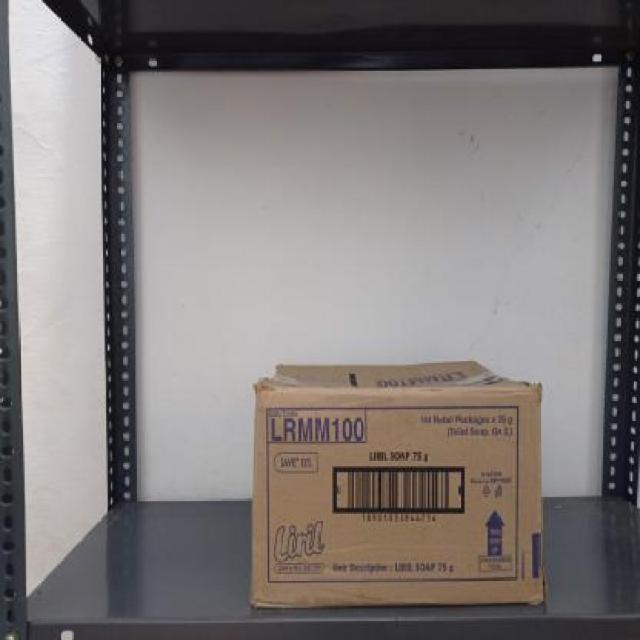box: (250, 383, 547, 608)
